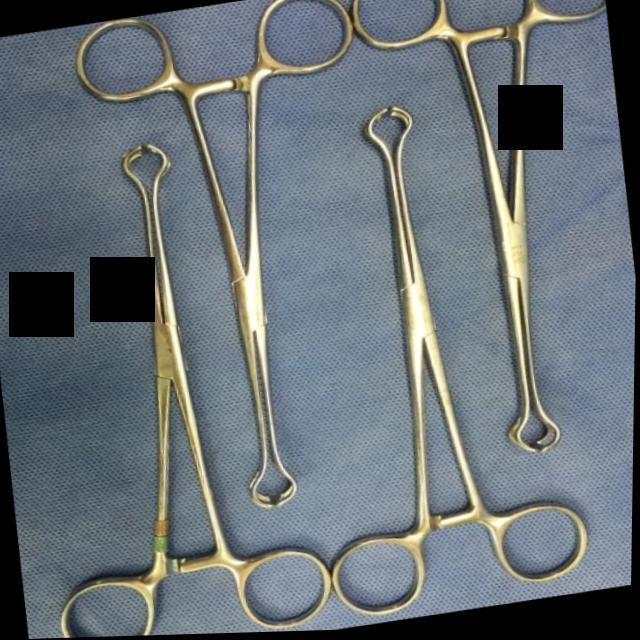Babcock Forceps: (64, 0, 412, 533), (4, 123, 342, 640), (278, 89, 598, 632), (347, 0, 640, 486)
